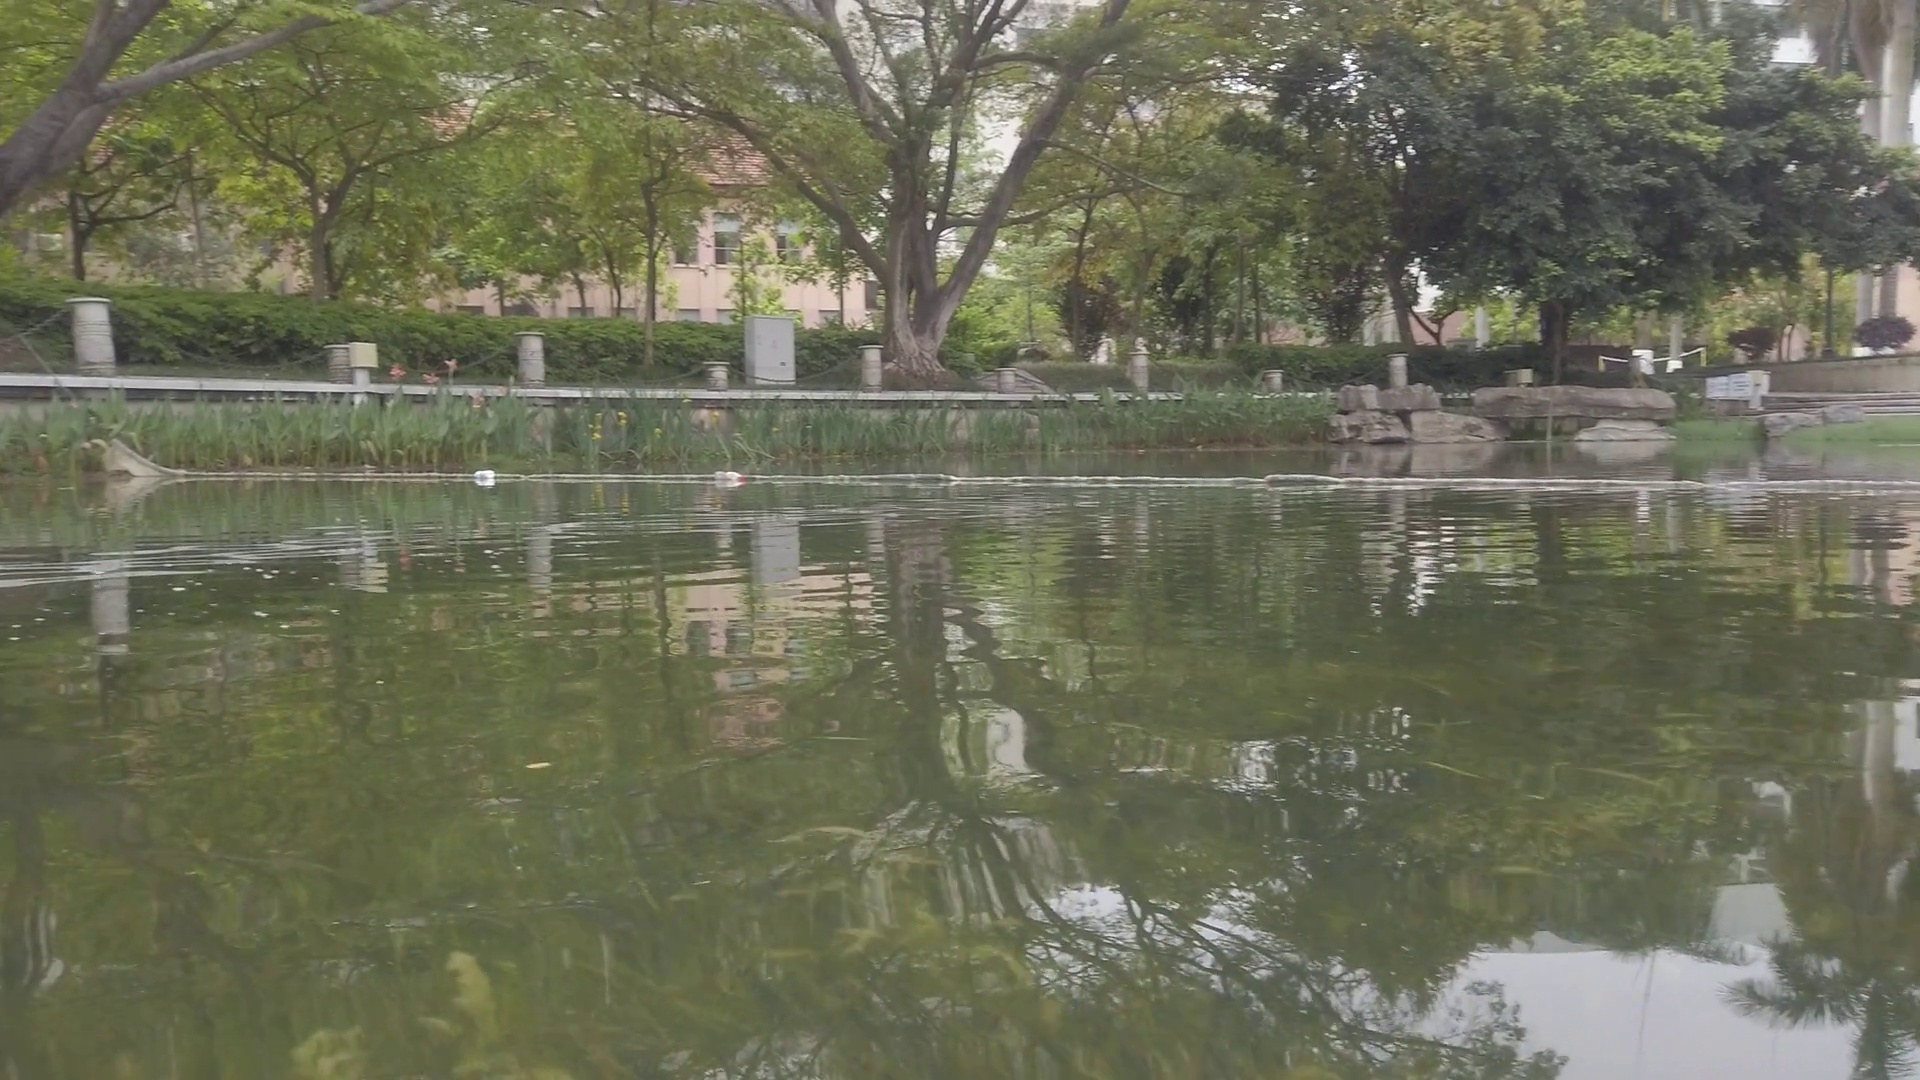bottle: (716, 471, 746, 485), (473, 468, 495, 481)
